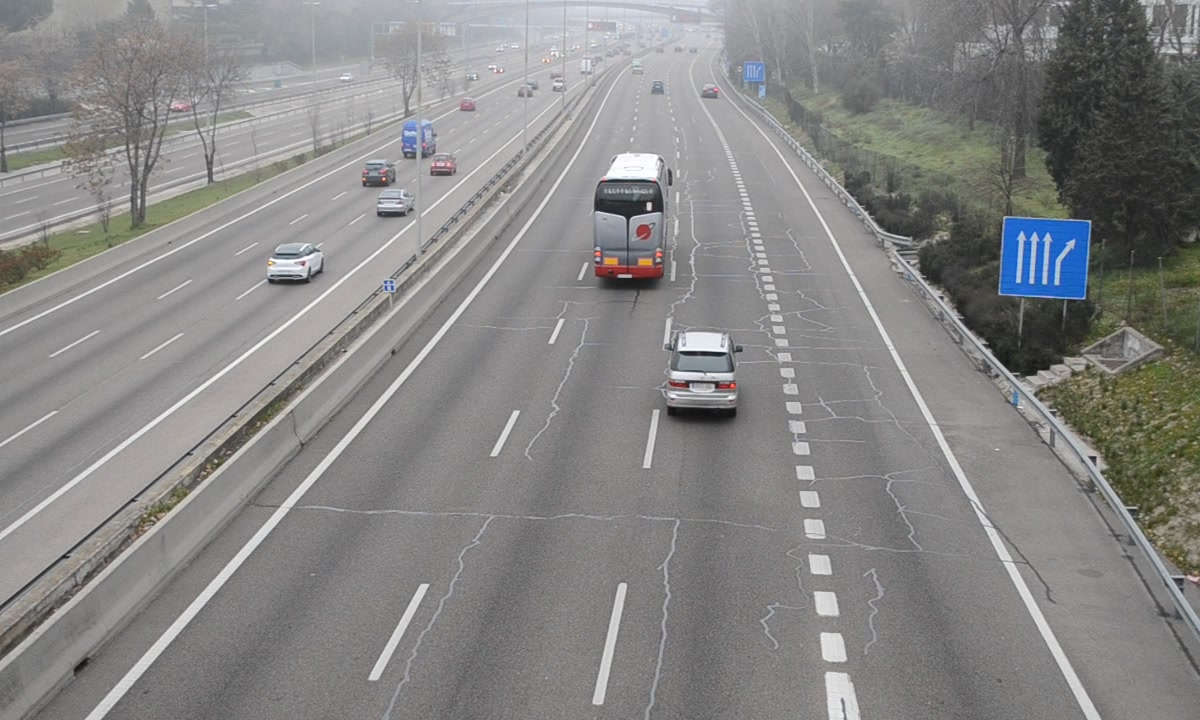bus: (595, 153, 669, 286)
car: (664, 332, 741, 415)
